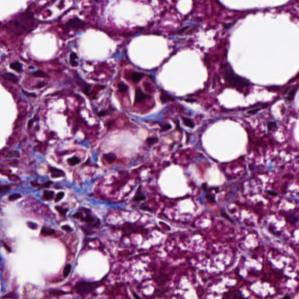inflammation: (25, 185, 78, 238), (145, 119, 197, 152)
